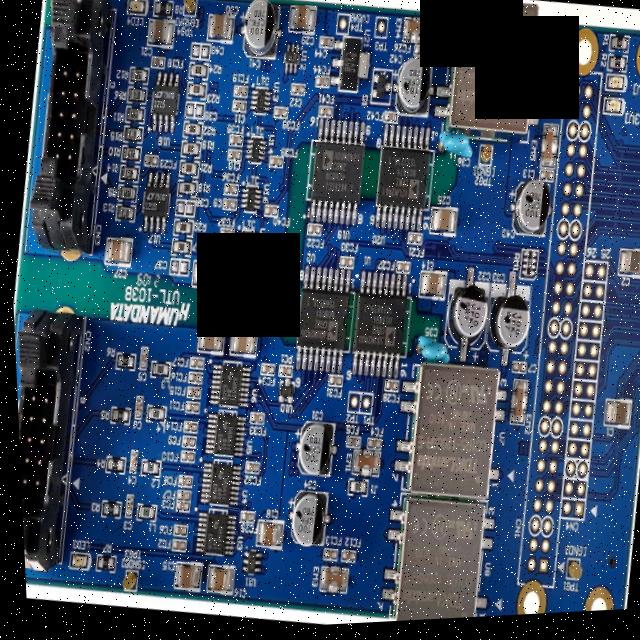-component text- -085811 B4T EHCR-: (210, 425, 231, 456), (200, 525, 220, 556), (205, 475, 225, 505), (216, 376, 236, 405)
-component text- -100 CFK 7BD-: (291, 505, 313, 540), (298, 437, 319, 468)
-component text- -100 CFK- 7BD-: (518, 194, 541, 225), (400, 70, 421, 102), (246, 9, 267, 41)
-component text- -100 VFK- 87-: (496, 314, 521, 346)
-component text- -100 VFK- 8R7-: (457, 304, 480, 334)
-component text- -7506 1215-: (140, 192, 165, 216), (151, 91, 174, 113)
-component text- -ADUM2401 CRWZ -0847 1559234-1-: (319, 151, 360, 200), (378, 156, 417, 206)
-component text- -B4AC L698-: (341, 53, 358, 80)
-component text- -TDK-LAMBDA OC1R5-1205SR-E MADE IN JAPAN 8Z10-: (407, 406, 489, 487), (391, 543, 474, 621), (450, 42, 531, 120)
-component text- 102: (118, 208, 127, 219), (127, 129, 134, 141), (131, 91, 139, 101), (123, 169, 130, 180)
-component text- 474: (125, 149, 135, 160), (121, 188, 129, 199), (130, 110, 137, 121), (134, 72, 141, 81)
-electrolytic capacitor- C31: (289, 424, 332, 482)
-electrolytic capacitor- C32: (438, 284, 489, 359)
-electrolytic capacitor- C33: (479, 286, 531, 361)
-electrolytic capacitor- C34: (283, 494, 325, 550)
-electrolytic capacitor- C35: (410, 338, 447, 371)
-electrolytic capacitor- C36: (434, 134, 471, 163)
-electrolytic capacitor- C41: (238, 2, 282, 63)
-electrolytic capacitor- C42: (391, 62, 439, 127)
-electrolytic capacitor- C43: (508, 184, 549, 245)
-emi filter- EM1: (346, 453, 378, 483)
-emi filter- EM2: (503, 385, 525, 432)
-emi filter- EM3: (312, 569, 344, 599)
-emi filter- EM4: (401, 19, 432, 51)
-emi filter- EM5: (535, 127, 560, 174)
-resistor network- RM1: (516, 255, 537, 287)
-test point- TP1: (354, 397, 370, 420)
-test point- TP2: (342, 395, 358, 416)
-test point- TP3: (373, 20, 389, 43)
-test point- TP4: (335, 16, 350, 39)
-test point- TPG1: (558, 563, 578, 587)
-test point- TPG2: (476, 149, 492, 170)
-test point- TPG3: (115, 568, 134, 594)
-test point- TPG4: (182, 0, 197, 19)
2024: (95, 499, 118, 521)
2080: (99, 457, 122, 477)
2156: (105, 407, 127, 426)
2189: (111, 354, 133, 372)
2200: (88, 554, 111, 574)
2211: (152, 1, 173, 20)
2222: (115, 185, 135, 204)
2249: (504, 188, 516, 206), (279, 496, 291, 512), (466, 355, 477, 369), (238, 12, 247, 28), (391, 74, 398, 86)
2263: (628, 85, 640, 108)
2266: (131, 271, 162, 292)
2277: (620, 116, 640, 139)
2376: (468, 168, 495, 186), (557, 549, 581, 565)
2377: (173, 18, 199, 32)
2378: (114, 559, 140, 573)
2597: (118, 283, 179, 311)
2600: (347, 15, 371, 31)
2644: (300, 205, 311, 224), (401, 287, 412, 303), (428, 131, 435, 148), (483, 487, 494, 496), (471, 613, 481, 622), (347, 280, 353, 294)
2685: (418, 216, 429, 236), (307, 119, 319, 134), (396, 364, 404, 383)
2718: (595, 251, 609, 270)
2721: (582, 250, 596, 266)
2728: (364, 217, 375, 234), (481, 510, 490, 521), (495, 384, 502, 395)
2745: (384, 501, 393, 513)
2749: (497, 230, 509, 247)
2757: (549, 85, 564, 105)
2766: (290, 377, 298, 391), (341, 372, 348, 387)
2769: (382, 473, 396, 489), (367, 601, 380, 618)
2775: (353, 210, 365, 233), (293, 269, 305, 288), (372, 140, 381, 155)
2784: (75, 394, 85, 408), (363, 128, 372, 143), (107, 79, 116, 93)
2844: (599, 432, 611, 448)
2845: (223, 163, 241, 178)
2856: (231, 115, 245, 128)
2867: (286, 99, 303, 114)
2878: (517, 171, 536, 188)
2889: (415, 262, 433, 278)
2900: (154, 559, 170, 574)
2911: (226, 591, 242, 603)
2933: (259, 508, 277, 525)
2944: (208, 314, 224, 329)
2955: (615, 281, 628, 298)
2956: (240, 316, 256, 333)
2967: (138, 45, 155, 60)
2978: (202, 292, 217, 304)
3000: (232, 294, 249, 308)
3011: (433, 197, 450, 213)
3027: (110, 268, 126, 282)
3047: (299, 37, 315, 51)
3057: (116, 521, 129, 535)
3058: (223, 4, 240, 22)
3069: (304, 409, 323, 426)
3079: (472, 271, 488, 290)
3089: (487, 273, 504, 292)
3100: (296, 479, 314, 498)
3111: (419, 329, 436, 345)
3120: (452, 160, 471, 175)
3127: (149, 259, 166, 274)
3135: (193, 196, 208, 212)
3145: (201, 111, 218, 126)
3154: (208, 45, 225, 62)
3157: (246, 59, 261, 74)
3168: (386, 57, 404, 71)
3182: (312, 48, 328, 64)
3210: (522, 368, 535, 383)
3221: (204, 240, 216, 253)
3232: (208, 200, 221, 213)
3250: (504, 519, 519, 550)
3251: (77, 327, 92, 356)
3252: (90, 221, 102, 249)
3253: (558, 525, 574, 540)
3269: (358, 98, 368, 114)
3339: (337, 455, 349, 477)
3340: (518, 418, 530, 444)
3341: (304, 564, 315, 595)
3342: (391, 19, 404, 46)
3343: (525, 140, 538, 171)
3370: (154, 451, 175, 467)
3371: (164, 400, 182, 415)
3372: (336, 536, 359, 556)
3373: (317, 532, 339, 554)
3374: (159, 420, 180, 437)
3375: (164, 387, 184, 399)
3376: (164, 371, 185, 387)
3377: (167, 356, 187, 373)
3378: (164, 57, 186, 74)
3379: (229, 72, 250, 90)
3380: (150, 537, 168, 554)
3381: (402, 246, 424, 266)
3382: (302, 238, 324, 256)
3383: (251, 266, 273, 284)
3384: (389, 44, 412, 60)
3385: (372, 261, 395, 279)
3386: (154, 159, 178, 176), (377, 394, 398, 411)
3387: (233, 524, 254, 540)
3388: (156, 501, 170, 513)
3389: (335, 242, 356, 258)
3390: (320, 388, 341, 407)
3391: (237, 476, 259, 494)
3392: (244, 427, 263, 442)
3393: (251, 376, 274, 392)
3394: (223, 125, 244, 141)
3395: (218, 171, 238, 187)
3396: (212, 217, 235, 233)
3397: (279, 120, 300, 138)
3398: (278, 147, 298, 164)
3399: (360, 429, 383, 446)
3400: (268, 216, 290, 234)
3401: (315, 96, 335, 109)
3402: (363, 113, 384, 130)
3403: (310, 66, 332, 81)
3404: (338, 428, 357, 442)
3405: (152, 523, 170, 540)
3406: (156, 489, 172, 504)
3407: (157, 476, 175, 490)
3408: (161, 433, 179, 450)
3452: (104, 291, 188, 333)
3489: (363, 485, 376, 504)
3561: (141, 524, 152, 537)
3563: (145, 478, 157, 492)
3577: (65, 538, 87, 554)
3578: (124, 16, 146, 32)
3584: (242, 174, 259, 190), (238, 219, 254, 236), (246, 126, 264, 141), (253, 76, 270, 91)
3690: (275, 355, 291, 369)
3766: (599, 39, 609, 55)
3767: (105, 146, 121, 160)
3778: (110, 110, 124, 125)
3789: (113, 67, 129, 83)
3800: (99, 199, 114, 215)
3811: (103, 160, 121, 177)
3822: (106, 130, 122, 145)
3833: (113, 90, 126, 104)
3844: (188, 241, 206, 260)
3855: (194, 182, 211, 198)
3866: (199, 140, 215, 155)
3877: (597, 57, 608, 76)
3878: (190, 222, 206, 239)
3889: (197, 162, 212, 179)
3900: (200, 124, 217, 141)
3911: (203, 93, 220, 109)
3921: (208, 66, 222, 78)
3985: (84, 501, 98, 515)
4046: (90, 456, 102, 472)
4122: (95, 409, 107, 425)
4157: (101, 345, 113, 361)
4168: (95, 542, 109, 555)
4179: (173, 6, 184, 19)
4190: (104, 187, 117, 200)
4210: (506, 253, 519, 282)
4303: (355, 415, 373, 430)
4312: (338, 413, 359, 429)
4316: (372, 43, 389, 59)
4317: (349, 26, 363, 38)
4325: (555, 584, 574, 603)
4326: (470, 180, 492, 196)
4327: (117, 547, 137, 563)
4328: (173, 29, 194, 43)
4341: (359, 259, 371, 272)
4343: (237, 578, 252, 592)
4344: (296, 53, 308, 77)
4345: (270, 82, 280, 107)
4346: (264, 136, 274, 160)
4347: (253, 228, 265, 253)
4348: (259, 182, 269, 209)
4349: (144, 232, 159, 248)
4350: (154, 134, 170, 151)
4351: (333, 230, 350, 247)
4352: (301, 253, 315, 268)
4353: (367, 236, 385, 252)
4354: (360, 29, 372, 55)
4363: (229, 537, 239, 554)
4367: (235, 489, 246, 509)
4368: (239, 440, 250, 460)
4369: (244, 388, 256, 409)
4370: (492, 434, 502, 451)
4371: (477, 564, 488, 586)
4372: (531, 76, 541, 98)
4436: (582, 505, 598, 530), (483, 600, 500, 621), (500, 468, 511, 491), (549, 563, 562, 582), (97, 172, 109, 187), (65, 478, 77, 492)
4470: (130, 503, 153, 525)
4471: (135, 458, 157, 480)
4472: (146, 362, 167, 378)
4473: (141, 404, 163, 424)
capacitor C10: (597, 402, 631, 436)
capacitor C100: (224, 149, 242, 166)
capacitor C110: (230, 100, 247, 116)
capacitor C120: (289, 86, 304, 98)
capacitor C130: (536, 175, 552, 190)
capacitor C140: (414, 273, 446, 306)
capacitor C150: (166, 563, 197, 594)
capacitor C160: (200, 566, 230, 595)
capacitor C180: (250, 521, 280, 552)
capacitor C190: (193, 325, 222, 362)
capacitor C20: (614, 257, 640, 287)
capacitor C200: (225, 330, 256, 361)
capacitor C210: (145, 18, 175, 50)
capacitor C220: (187, 259, 218, 292)
capacitor C240: (220, 264, 251, 296)
capacitor C250: (426, 210, 457, 241)
capacitor C270: (100, 238, 129, 268)
capacitor C290: (287, 7, 316, 38)
capacitor C30: (118, 493, 130, 520)
capacitor C300: (205, 15, 234, 45)
capacitor C40: (123, 450, 135, 476)
capacitor C45: (317, 41, 333, 55)
capacitor C50: (135, 348, 146, 372)
capacitor C60: (129, 395, 140, 423)
capacitor C70: (507, 366, 524, 381)
capacitor C80: (215, 243, 231, 258)
capacitor C90: (220, 199, 235, 214)
capacitor FC11: (176, 452, 191, 465)
capacitor FC12: (179, 402, 197, 416)
capacitor FC13: (336, 554, 350, 567)
capacitor FC14: (316, 551, 333, 565)
capacitor FC15: (179, 424, 193, 435)
capacitor FC16: (182, 387, 197, 399)
capacitor FC17: (183, 373, 200, 388)
capacitor FC18: (185, 357, 202, 371)
capacitor FC19: (148, 57, 165, 72)
capacitor FC2: (231, 86, 249, 101)
capacitor FC21: (167, 540, 182, 555)
capacitor FC22: (404, 236, 419, 253)
capacitor FC23: (304, 226, 319, 241)
capacitor FC24: (141, 156, 157, 171)
capacitor FC26: (256, 251, 272, 265)
capacitor FC27: (412, 51, 427, 61)
capacitor FC28: (392, 264, 408, 278)
capacitor FC29: (379, 382, 397, 399)
capacitor FC3: (233, 511, 250, 527)
capacitor FC30: (170, 502, 184, 515)
capacitor FC31: (335, 258, 353, 275)
capacitor FC32: (323, 377, 340, 391)
capacitor FC33: (238, 460, 255, 477)
capacitor FC34: (243, 411, 261, 430)
capacitor FC35: (254, 364, 274, 379)
capacitor FC36: (226, 136, 242, 150)
capacitor FC37: (221, 186, 236, 198)
capacitor FC38: (216, 228, 232, 245)
capacitor FC39: (271, 108, 287, 123)
capacitor FC4: (265, 158, 282, 172)
capacitor FC40: (362, 440, 377, 454)
capacitor FC41: (260, 207, 277, 222)
capacitor FC42: (314, 107, 332, 124)
capacitor FC44: (382, 115, 397, 130)
capacitor FC5: (314, 78, 329, 93)
capacitor FC6: (342, 440, 355, 453)
capacitor FC7: (168, 525, 182, 538)
capacitor FC8: (170, 489, 187, 503)
capacitor FC9: (173, 476, 188, 491)
capacitor PC1: (175, 436, 194, 451)
capacitor UNKNOWN: (274, 365, 290, 382)
connector CN2: (494, 73, 619, 593)
connector CN3: (11, 304, 91, 577)
connector CN4: (15, 0, 124, 261)
connector CN5: (546, 265, 615, 528)
diode D10: (367, 70, 393, 109)
ic U1: (342, 268, 412, 387)
ic U10: (272, 380, 293, 406)
ic U11: (236, 550, 258, 576)
ic U12: (281, 45, 303, 80)
ic U13: (247, 89, 273, 120)
ic U15: (232, 229, 257, 262)
ic U16: (237, 188, 262, 219)
ic U17: (135, 171, 175, 238)
ic U18: (144, 71, 185, 140)
ic U19: (303, 120, 369, 234)
ic U2: (286, 266, 354, 379)
ic U20: (369, 126, 436, 242)
ic U21: (326, 37, 374, 102)
ic U3: (188, 509, 235, 562)
ic U4: (193, 458, 241, 513), (241, 136, 267, 170)
ic U5: (198, 409, 245, 465)
ic U6: (204, 359, 251, 416)
ic U7: (383, 362, 510, 509)
ic U8: (368, 497, 494, 626)
ic U9: (427, 0, 553, 154)
led LED1: (601, 103, 623, 122)
led LED2: (603, 80, 626, 100)
led LED3: (63, 552, 86, 572)
led LED4: (126, 0, 146, 16)
pads C37: (166, 259, 188, 278)
pads C38: (172, 201, 194, 220)
pads C39: (182, 104, 204, 122)
pads C40: (189, 45, 210, 62)
resistor R1: (342, 481, 364, 501)
resistor R10: (607, 39, 630, 61)
resistor R100: (119, 146, 139, 165)
resistor R110: (122, 107, 143, 126)
resistor R120: (127, 67, 149, 88)
resistor R130: (111, 204, 134, 224)
resistor R140: (117, 167, 138, 183)
resistor R150: (121, 127, 142, 146)
resistor R160: (125, 88, 147, 108)
resistor R170: (168, 240, 191, 260)
resistor R180: (173, 180, 196, 200)
resistor R190: (178, 142, 200, 159)
resistor R20: (605, 61, 628, 78)
resistor R200: (170, 220, 191, 237)
resistor R210: (176, 162, 197, 181)
resistor R220: (181, 121, 202, 140)
resistor R230: (185, 83, 207, 103)
resistor R240: (187, 64, 208, 82)
